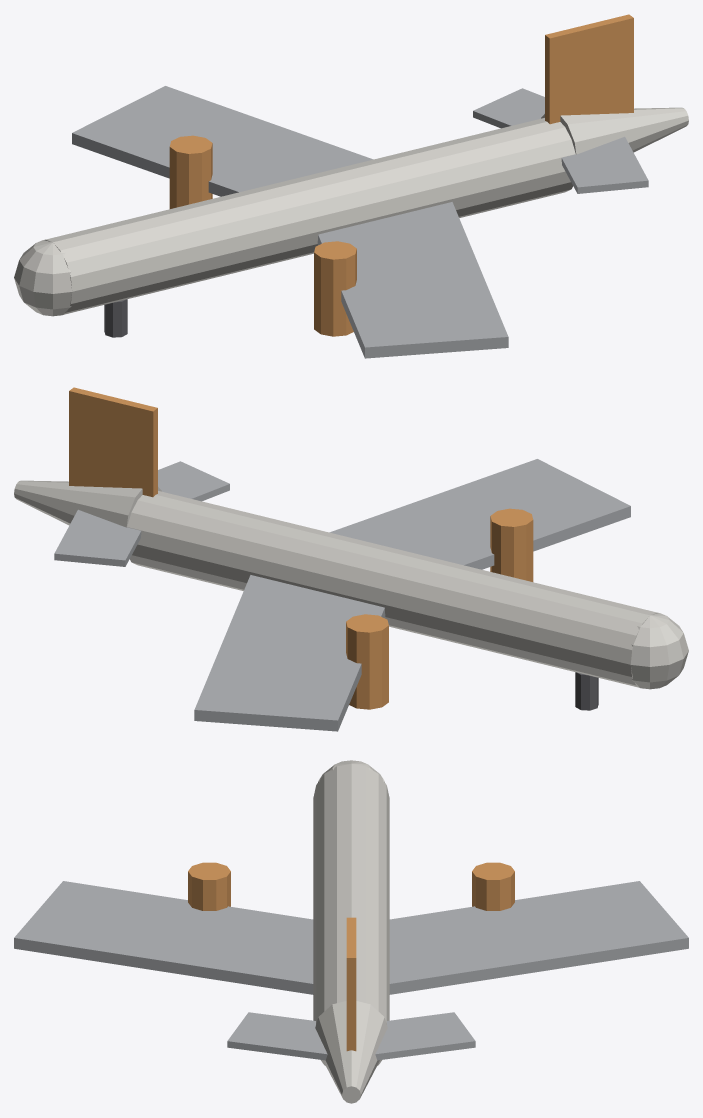
The model's file is landmark-euroairport-flugzeug-4.f7d33bf544.glb.
3 renders of one model, top to bottom at view 1: azimuth 30°, elevation 25°; view 2: azimuth 150°, elevation 25°; view 3: azimuth 270°, elevation 25°, orthographic.
Visible parts, largest first — view 1: building; view 2: building; view 3: building.
Part boxes in pixels (<box>): building: <box>14,14,688,358</box>; building: <box>14,387,688,731</box>; building: <box>14,760,688,1103</box>.
Size of the model in its own units: 31.6 by 8.66 by 28.24.
